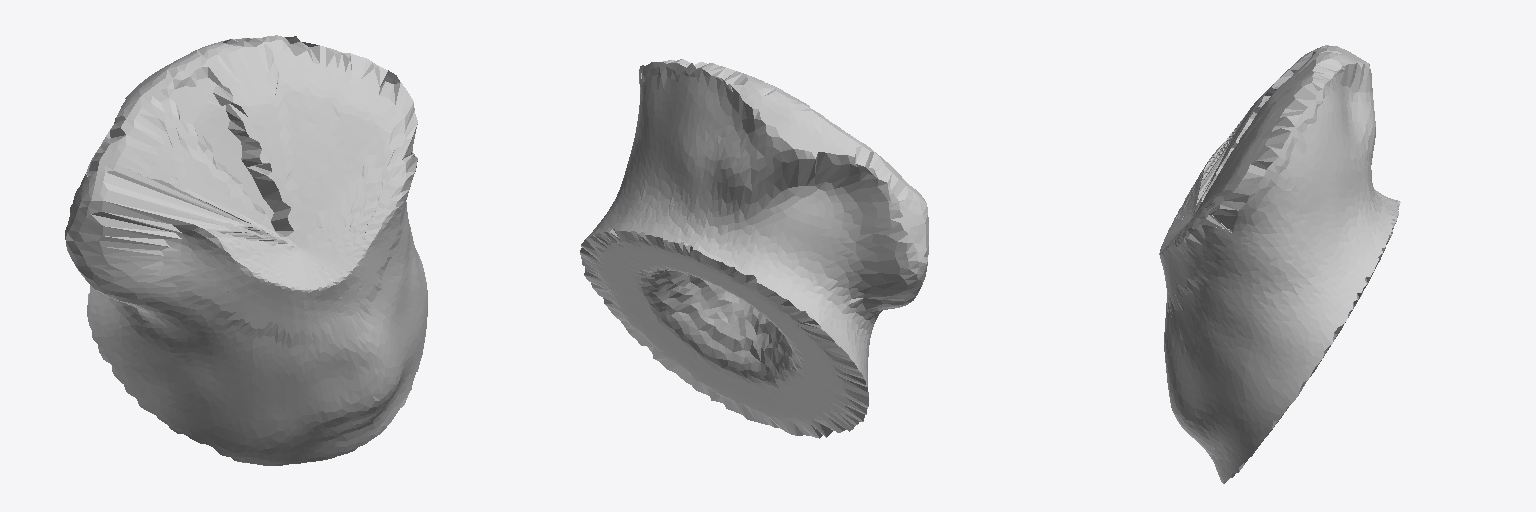
File: laao_deformed.obj
3 views of the same model, side by side, from view 1: azimuth 30°, elevation 25°; view 2: azimuth 150°, elevation 25°; view 3: azimuth 270°, elevation 25° (orthographic).
Visible parts, largest first — view 1: laao_deformed; view 2: laao_deformed; view 3: laao_deformed.
Part boxes in pixels (x1,y1,x2,y2): laao_deformed: (65,35,427,465); laao_deformed: (580,59,928,438); laao_deformed: (1159,45,1400,483).
Bounding box in the file's own units: 22.43 × 23.9 × 13.44.